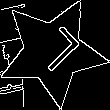L_SW: (24, 23, 81, 81)
